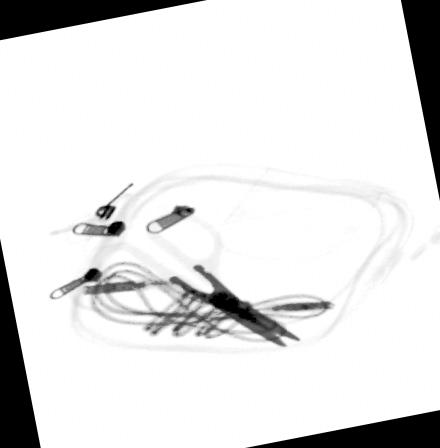Scissors: (89, 209, 300, 346)
